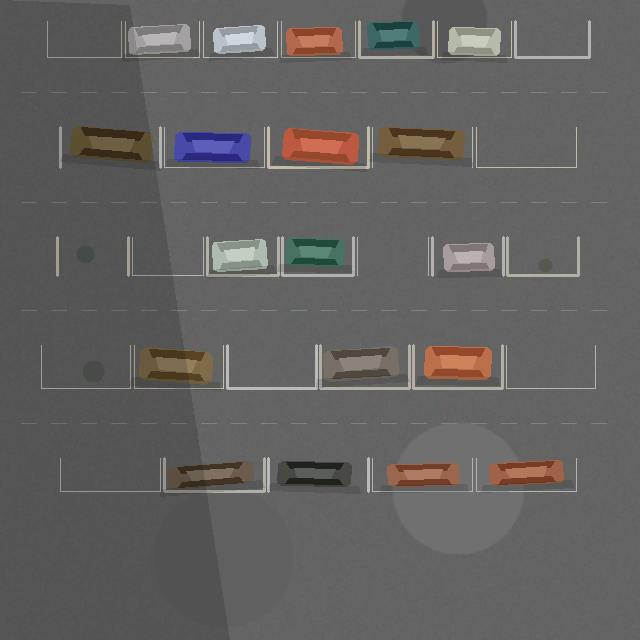space-empty: (476, 127, 576, 167), (41, 345, 130, 388), (227, 345, 316, 388), (506, 345, 595, 388), (60, 458, 160, 491), (57, 237, 128, 275), (132, 237, 203, 275), (357, 237, 428, 275), (507, 237, 578, 275), (47, 21, 121, 57), (515, 21, 589, 57)
space-occupied: (60, 127, 160, 167), (164, 127, 264, 167), (268, 127, 368, 167), (372, 127, 472, 167), (134, 345, 223, 388), (320, 345, 409, 388), (413, 345, 502, 388), (164, 458, 264, 491), (268, 458, 368, 491), (372, 458, 472, 491), (476, 458, 576, 491), (207, 237, 278, 275), (282, 237, 353, 275), (432, 237, 503, 275), (125, 21, 199, 57), (203, 21, 277, 57), (281, 21, 355, 57), (359, 21, 433, 57), (437, 21, 511, 57)
